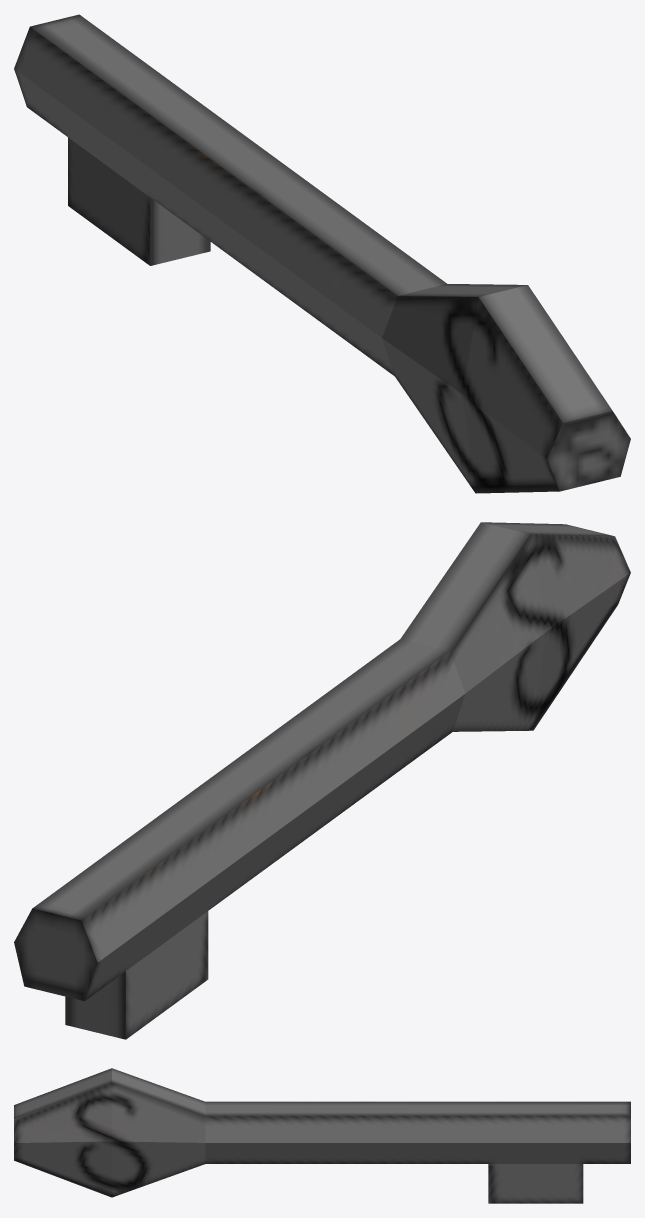
Rendered from Clef.fbx.
The picture shows the model from 3 angles, top to bottom: view 1: azimuth 30°, elevation 25°; view 2: azimuth 150°, elevation 25°; view 3: azimuth 270°, elevation 25°; orthographic projection. The views are drawn at different scales.
Visible parts, largest first — view 1: Clef; view 2: Clef; view 3: Clef.
Part boxes in pixels (left/top/right/bottom): Clef: left=14, top=14, right=630, bottom=493; Clef: left=14, top=522, right=630, bottom=1039; Clef: left=14, top=1068, right=630, bottom=1203.
Size of the model in its own units: 0.1375 by 0.3239 by 1.52.
